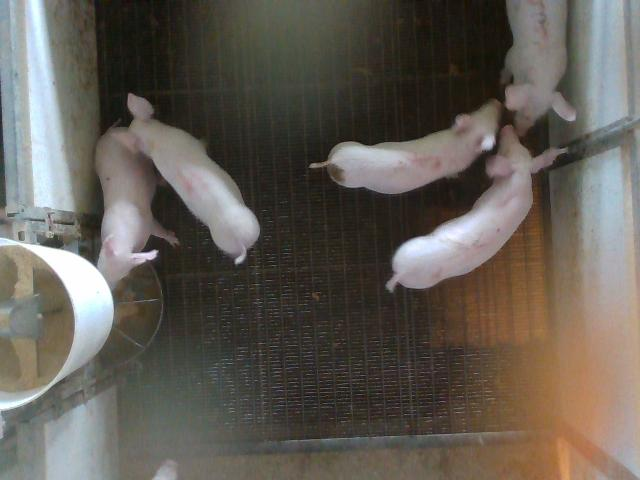pig-3: (501, 0, 576, 136)
pig-4: (115, 94, 260, 263)
pig-5: (310, 99, 501, 193)
